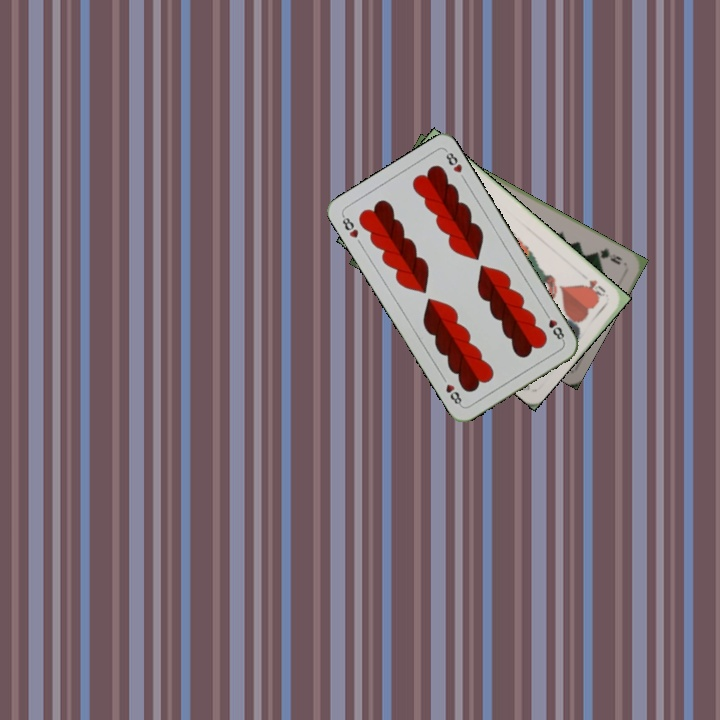G9: (589, 244, 625, 267)
H8: (541, 308, 567, 344), (338, 211, 361, 241)
HO: (582, 275, 608, 300)
